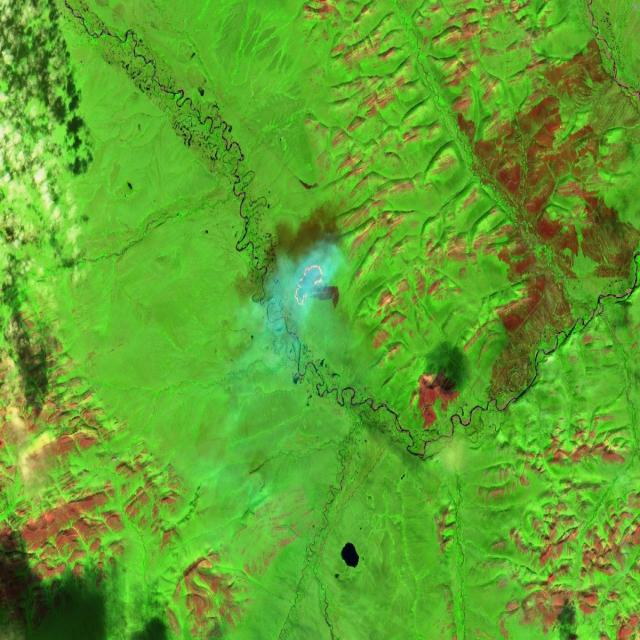fire: (292, 257, 326, 309)
